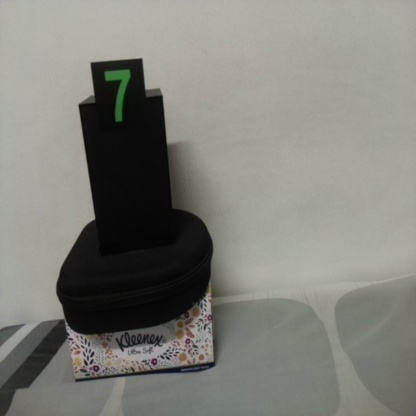id_7: (92, 62, 146, 146)
